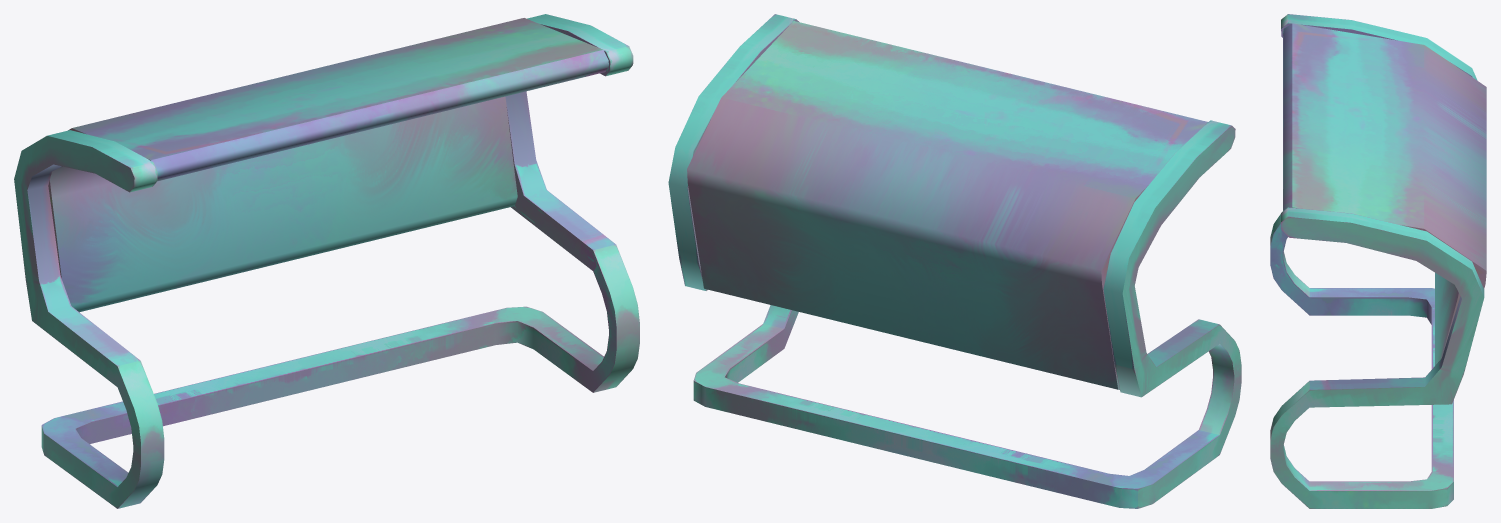
File: SUP_PRP_Bench.fbx
The picture shows the model from 3 angles, left to right: view 1: azimuth 30°, elevation 25°; view 2: azimuth 150°, elevation 25°; view 3: azimuth 270°, elevation 25°; orthographic projection. The views are drawn at different scales.
Visible parts, largest first — view 1: m_benchSuperposed; view 2: m_benchSuperposed; view 3: m_benchSuperposed.
Boxes of the visible parts, left/top/right/bottom form: m_benchSuperposed: left=14, top=14, right=639, bottom=508; m_benchSuperposed: left=668, top=14, right=1241, bottom=508; m_benchSuperposed: left=1270, top=14, right=1486, bottom=508.
Size of the model in its own units: 164 by 110 by 74.21.
Materials: 2 (2 with a texture image).
